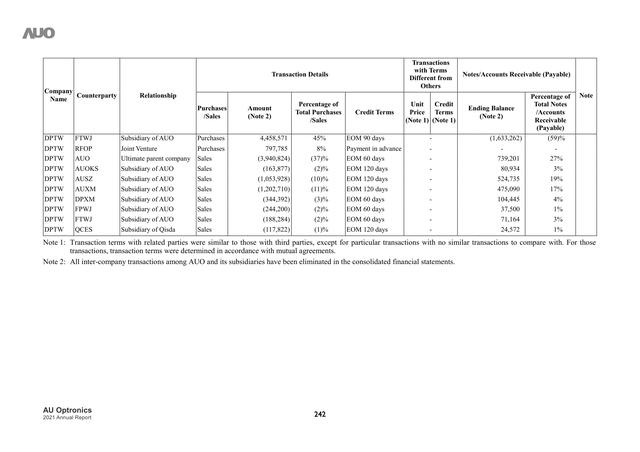box: (41, 57, 598, 238)
